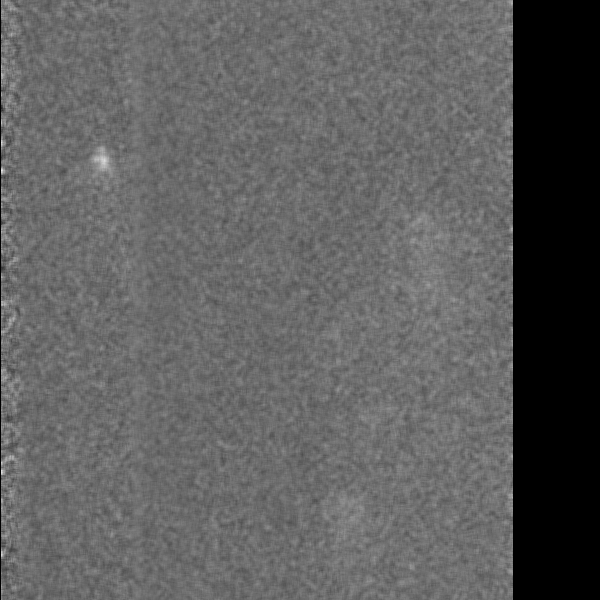spark: (407, 225, 440, 341), (88, 143, 115, 198)
